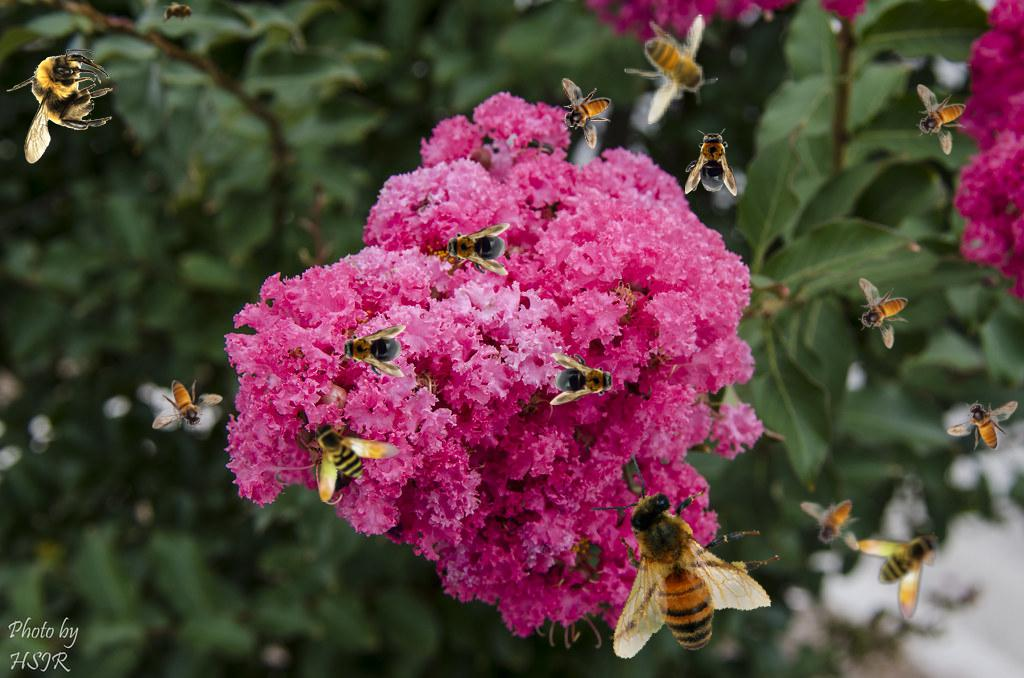Bee: (557, 445, 798, 678), (6, 49, 113, 164), (624, 14, 718, 125), (856, 532, 938, 620), (312, 420, 400, 502), (797, 480, 875, 567), (858, 278, 908, 349), (561, 78, 611, 149), (152, 380, 223, 430), (947, 400, 1018, 450), (916, 84, 966, 155), (550, 353, 618, 405), (338, 325, 406, 377), (442, 223, 510, 275), (685, 128, 737, 196), (159, 2, 199, 24)
